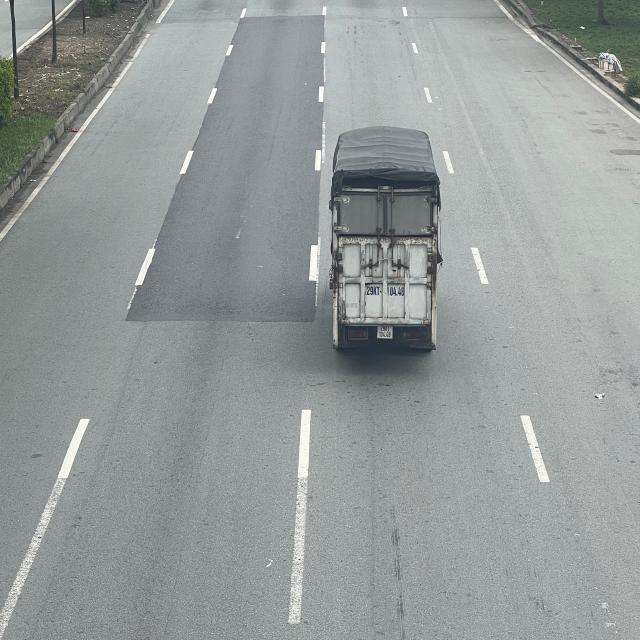truck: (328, 123, 442, 354)
